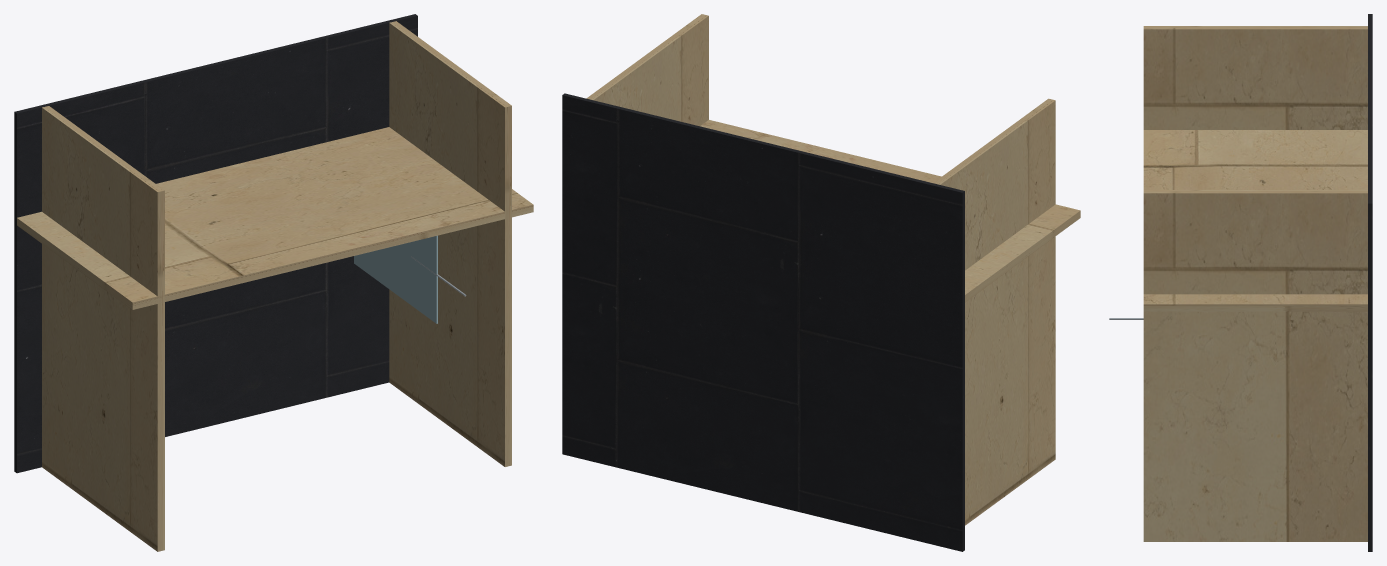
File: infusion_ward_room.glb
3 renders of one model, left to right at view 1: azimuth 30°, elevation 25°; view 2: azimuth 150°, elevation 25°; view 3: azimuth 270°, elevation 25°, orthographic. The views are drawn at different scales.
Parts seen in each view (by area): view 1: floor, leftwall, backwall, rightwall, curtain; view 2: floor, leftwall, rightwall, backwall; view 3: rightwall, leftwall, backwall, floor.
Boxes of the visible parts, left/top/right/bottom form: floor: left=14, top=14, right=417, bottom=473; leftwall: left=42, top=106, right=164, bottom=551; backwall: left=17, top=127, right=533, bottom=309; rightwall: left=389, top=21, right=511, bottom=466; curtain: left=354, top=235, right=437, bottom=323; floor: left=562, top=93, right=964, bottom=551; leftwall: left=933, top=98, right=1055, bottom=525; rightwall: left=586, top=14, right=708, bottom=126; backwall: left=700, top=120, right=1080, bottom=302; rightwall: left=1143, top=190, right=1367, bottom=541; leftwall: left=1143, top=26, right=1367, bottom=129; backwall: left=1143, top=130, right=1367, bottom=311; floor: left=1368, top=14, right=1372, bottom=551.
Bounding box in the file's own units: 5.6 × 4.8 × 3.29.
5 materials, 2 textured.
